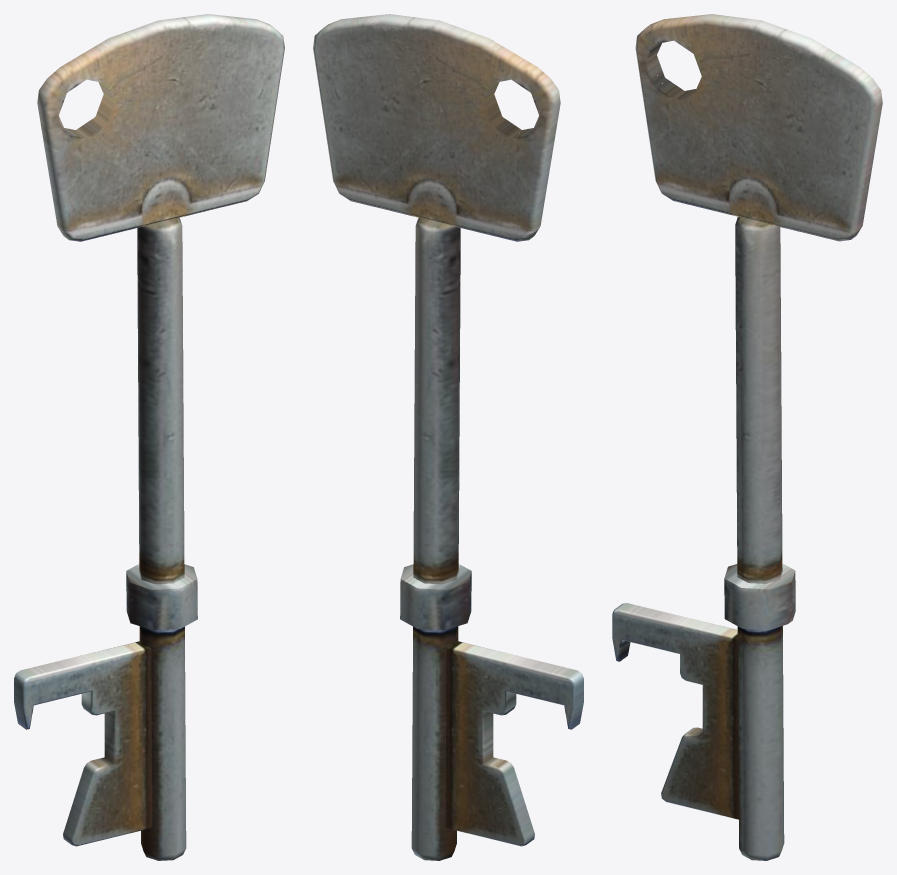
File: SM_key.fbx
3 views of the same model, side by side, from view 1: azimuth 30°, elevation 25°; view 2: azimuth 150°, elevation 25°; view 3: azimuth 330°, elevation 25° (orthographic).
Parts seen in each view (by area): view 1: SM_key; view 2: SM_key; view 3: SM_key.
Boxes of the visible parts, left/top/right/bottom form: SM_key: left=14, top=14, right=284, bottom=860; SM_key: left=313, top=14, right=583, bottom=860; SM_key: left=612, top=14, right=882, bottom=860.
Bounding box in the file's own units: 4.66 × 14.05 × 1.13.
1 material, 1 textured.
